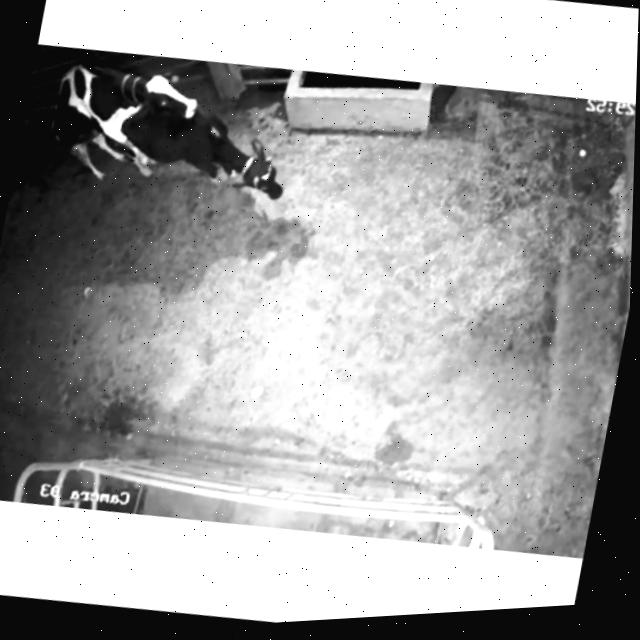ride: (30, 36, 217, 220)
